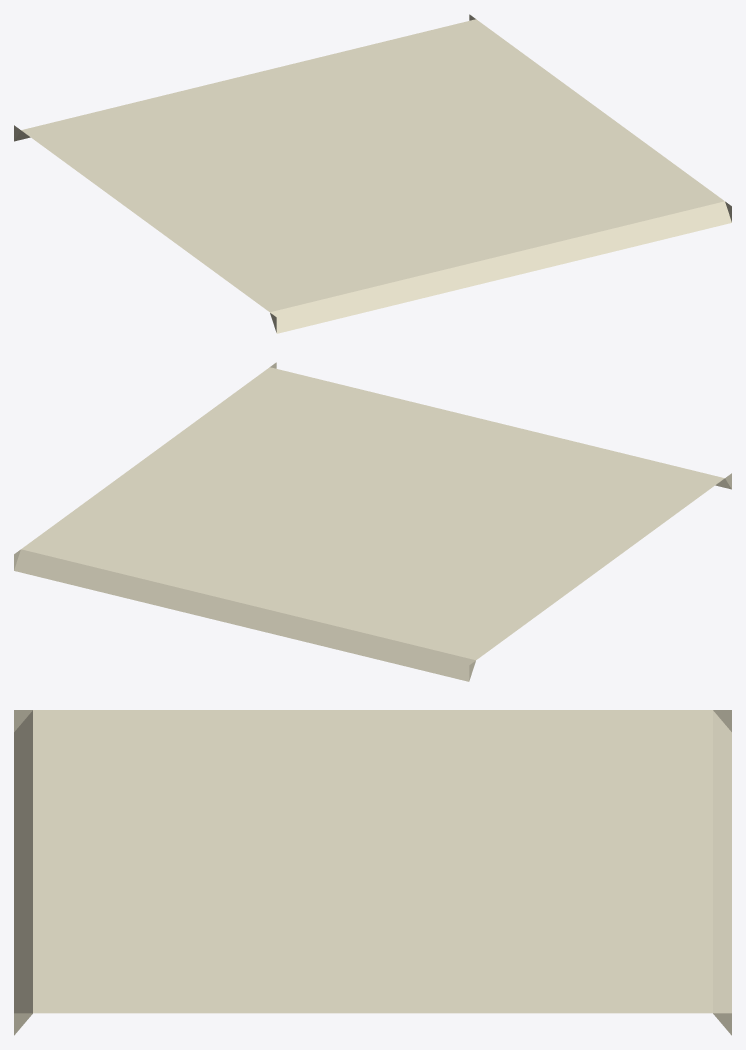
The model's file is sidewalk.fbx.
The picture shows the model from 3 angles, top to bottom: view 1: azimuth 30°, elevation 25°; view 2: azimuth 150°, elevation 25°; view 3: azimuth 270°, elevation 25°; orthographic projection. The views are drawn at different scales.
Visible parts, largest first — view 1: Sidewalk; view 2: Sidewalk; view 3: Sidewalk.
Boxes of the visible parts, box(x1,y1,x2,y2) form: Sidewalk: box(14, 14, 731, 333); Sidewalk: box(14, 362, 731, 681); Sidewalk: box(14, 710, 731, 1035).
Size of the model in its own units: 150 by 5.19 by 150.
